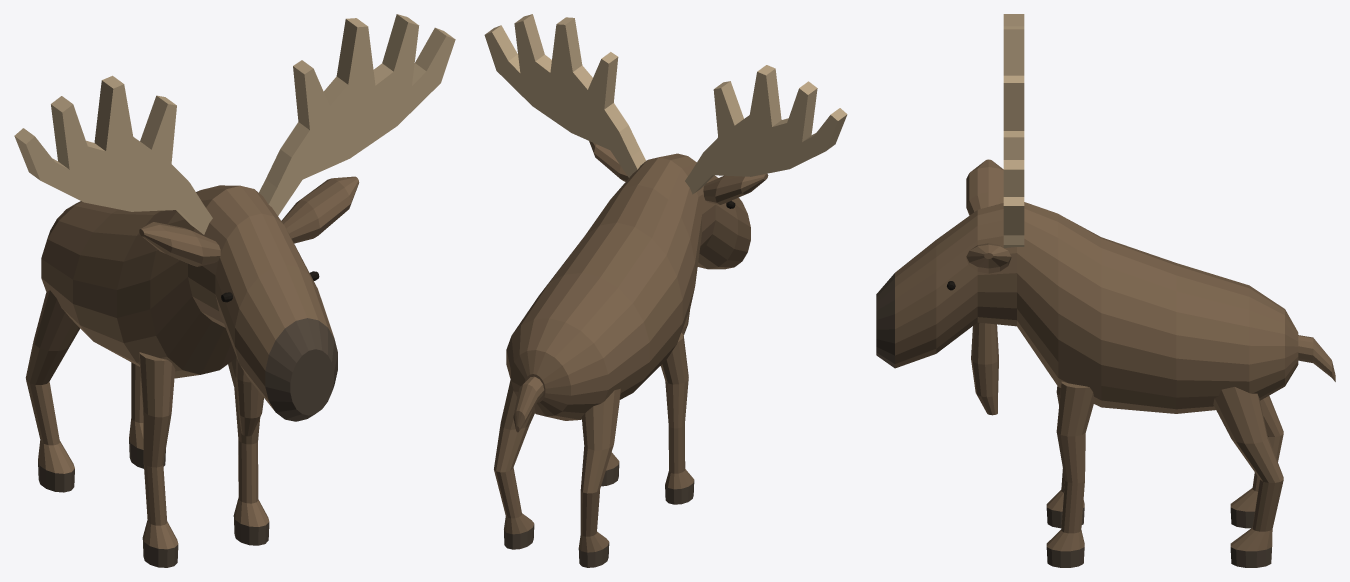
The picture shows the model from 3 angles, left to right: view 1: azimuth 30°, elevation 25°; view 2: azimuth 150°, elevation 25°; view 3: azimuth 270°, elevation 25°; orthographic projection. The views are drawn at different scales.
Visible parts, largest first — view 1: WholeDroppedMuzzleThickNeckHighShoulderAndRump, WholeBroadNotchedPalmAntler1, WholeBroadNotchedPalmAntler0, WholeLongForeLegAndHoof0, WholeLongHindLegAndHoof0, WholeLongForeLegAndHoof1, WholeLargeMooseSideEar1, WholeLargeMooseSideEar0, WholeTaperedHangingThroatBell, WholeLongHindLegAndHoof1; view 2: WholeDroppedMuzzleThickNeckHighShoulderAndRump, WholeBroadNotchedPalmAntler1, WholeBroadNotchedPalmAntler0, WholeLongHindLegAndHoof0, WholeLongHindLegAndHoof1, WholeLongForeLegAndHoof0, WholeLargeMooseSideEar0, WholeShortDroopingMooseTail, WholeLargeMooseSideEar1; view 3: WholeDroppedMuzzleThickNeckHighShoulderAndRump, WholeLongHindLegAndHoof1, WholeLongForeLegAndHoof1, WholeBroadNotchedPalmAntler0, WholeBroadNotchedPalmAntler1, WholeTaperedHangingThroatBell, WholeLongHindLegAndHoof0, WholeLargeMooseSideEar0, WholeLargeMooseSideEar1, WholeShortDroopingMooseTail, WholeLongForeLegAndHoof0.
Part boxes in pixels (x1,y1,x2,y2): WholeDroppedMuzzleThickNeckHighShoulderAndRump: (41,185,337,421); WholeBroadNotchedPalmAntler1: (259,14,455,215); WholeBroadNotchedPalmAntler0: (14,75,212,234); WholeLongForeLegAndHoof0: (139,352,178,567); WholeLongHindLegAndHoof0: (25,290,79,492); WholeLongForeLegAndHoof1: (228,358,269,545); WholeLargeMooseSideEar1: (281,176,359,243); WholeLargeMooseSideEar0: (139,222,220,266); WholeTaperedHangingThroatBell: (235,356,263,436); WholeLongHindLegAndHoof1: (129,362,165,468); WholeDroppedMuzzleThickNeckHighShoulderAndRump: (506,153,750,420); WholeBroadNotchedPalmAntler1: (484,14,645,177); WholeBroadNotchedPalmAntler0: (685,65,847,194); WholeLongHindLegAndHoof0: (578,388,620,567); WholeLongHindLegAndHoof1: (494,380,534,549); WholeLongForeLegAndHoof0: (661,333,694,504); WholeLargeMooseSideEar0: (703,173,768,204); WholeShortDroopingMooseTail: (513,376,544,432); WholeLargeMooseSideEar1: (589,141,628,181); WholeDroppedMuzzleThickNeckHighShoulderAndRump: (876,202,1298,413); WholeLongHindLegAndHoof1: (1213,387,1283,567); WholeLongForeLegAndHoof1: (1046,381,1095,567); WholeBroadNotchedPalmAntler0: (1003,14,1024,130); WholeBroadNotchedPalmAntler1: (1003,131,1024,247); WholeTaperedHangingThroatBell: (971,322,998,415); WholeLongHindLegAndHoof0: (1230,396,1283,528); WholeLargeMooseSideEar0: (966,159,1003,215); WholeLargeMooseSideEar1: (966,243,1011,273); WholeShortDroopingMooseTail: (1298,335,1335,381); WholeLongForeLegAndHoof0: (1046,386,1084,528).
Size of the model in its own units: 2.36 by 2.72 by 2.45.
